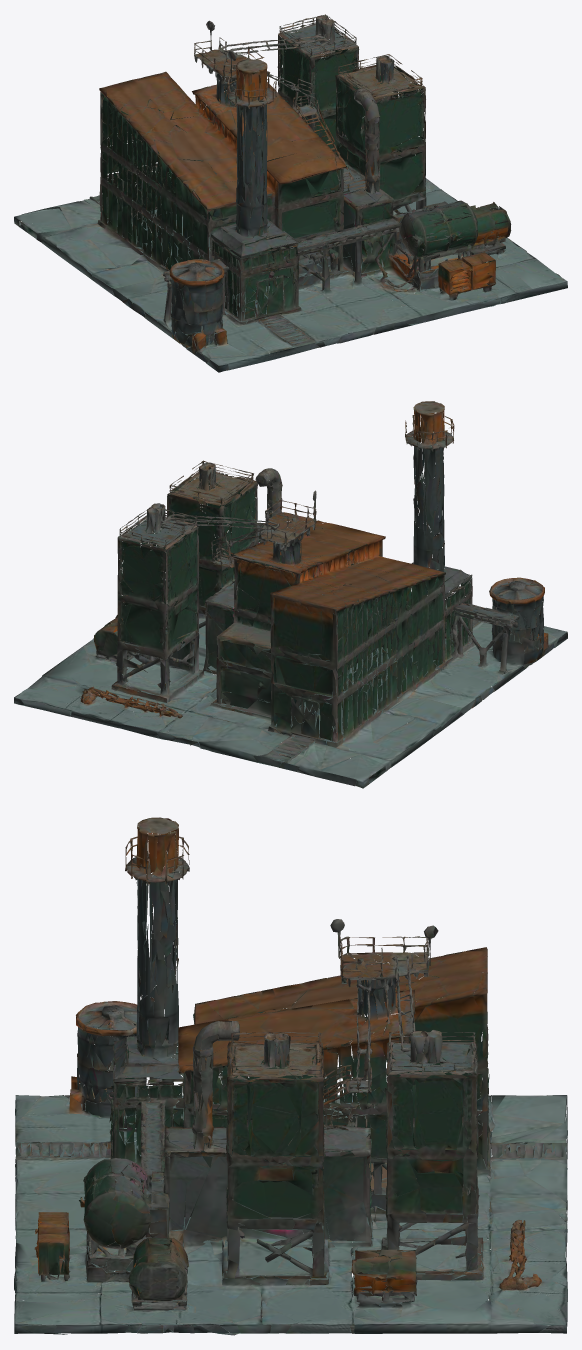
The model's file is smelter.glb.
3 renders of one model, top to bottom at view 1: azimuth 30°, elevation 25°; view 2: azimuth 150°, elevation 25°; view 3: azimuth 270°, elevation 25°, orthographic. The views are drawn at different scales.
Parts seen in each view (by area): view 1: Mesh_0; view 2: Mesh_0; view 3: Mesh_0.
Boxes of the visible parts, bbox=[...] form: Mesh_0: bbox=[14, 14, 567, 372]; Mesh_0: bbox=[14, 401, 567, 788]; Mesh_0: bbox=[14, 817, 567, 1335].
Bounding box in the file's own units: 1.9 × 1.27 × 1.89.
1 material, 1 textured.
